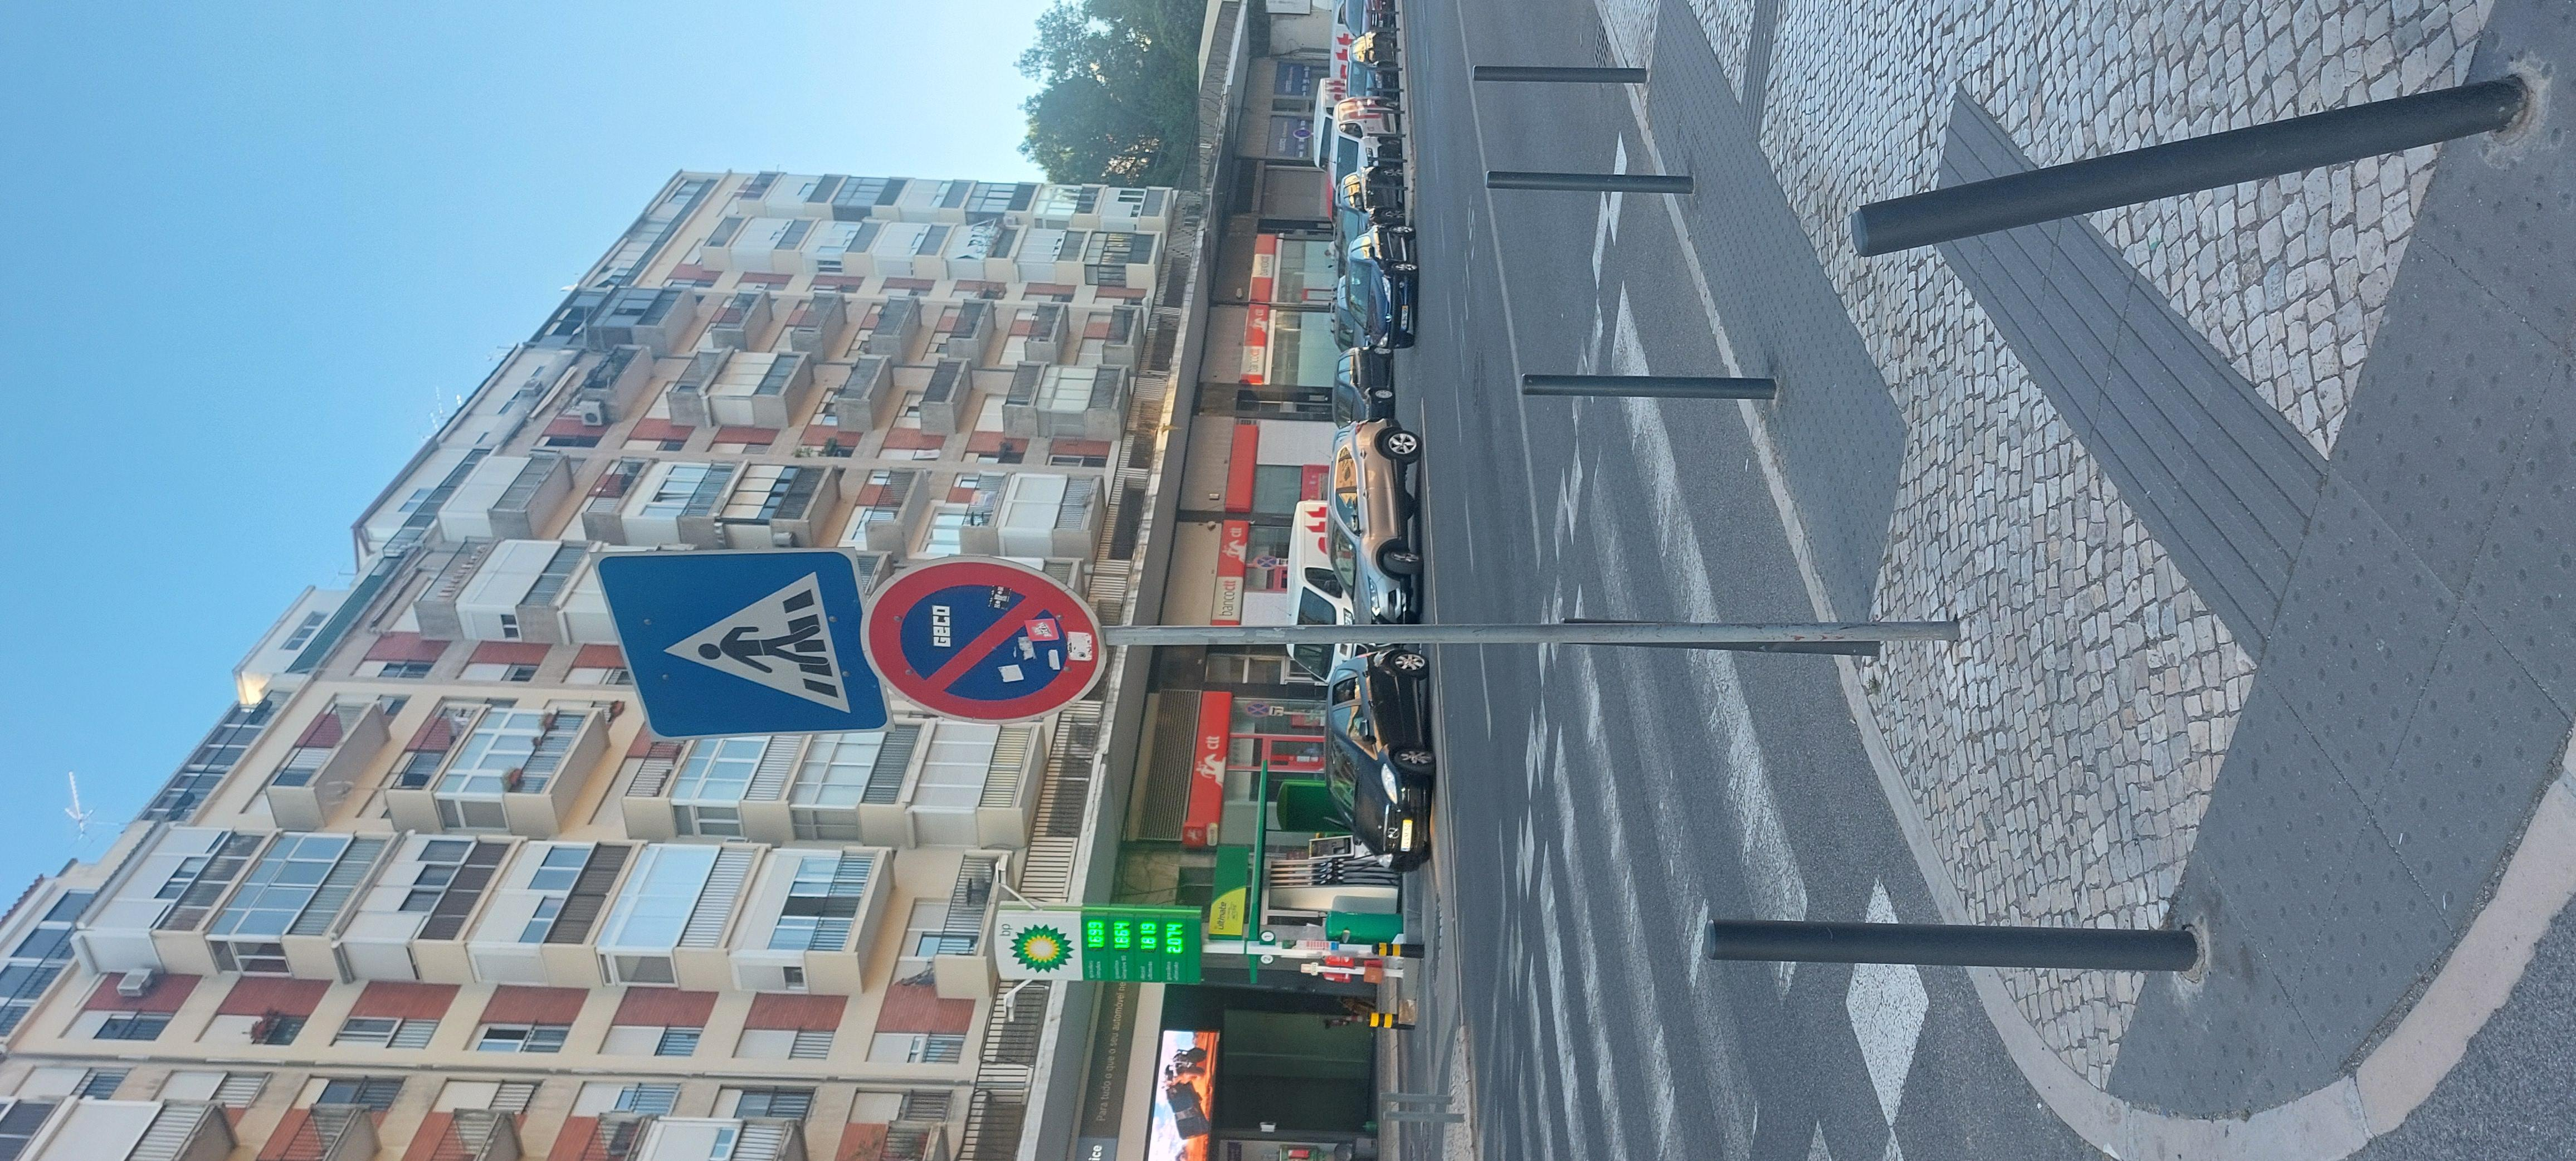estacionamento proibido: (961, 392, 1344, 502)
passagem para peoes: (930, 271, 1363, 406)
